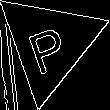P_N: (24, 13, 75, 74)
